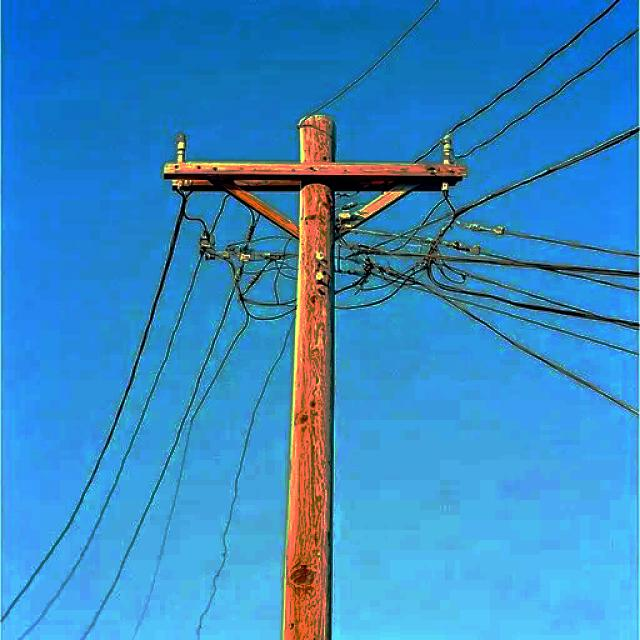poles: (166, 118, 464, 639)
wires: (14, 194, 291, 639), (445, 1, 631, 176), (414, 279, 635, 412), (444, 226, 636, 292)
